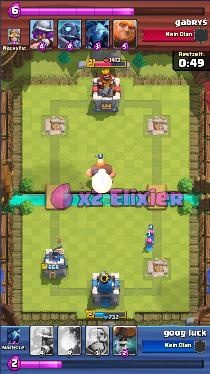ally_archer: (144, 237, 155, 251), (146, 228, 155, 242)
ally_giant: (85, 159, 117, 184)
